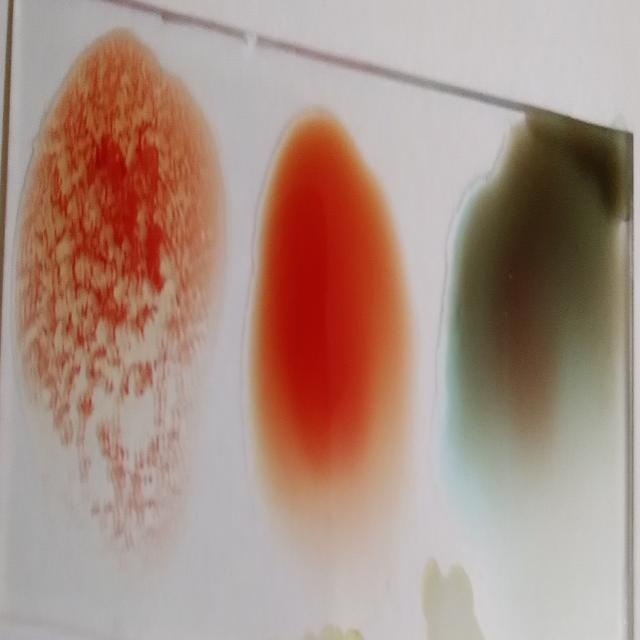D: (24, 45, 215, 551)
